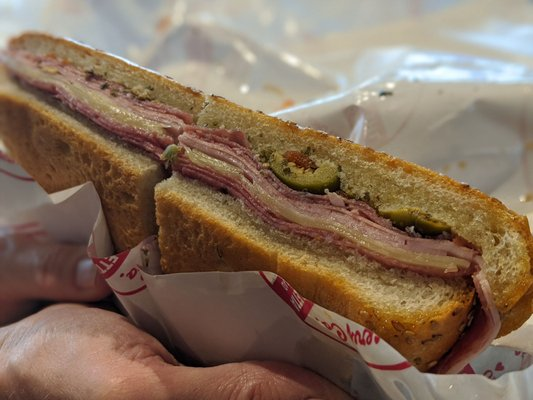soup: (149, 94, 530, 370)
